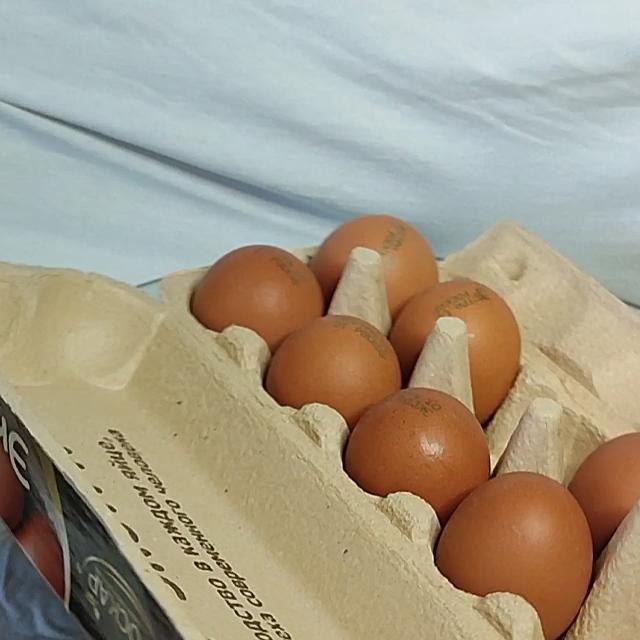egg: (0, 220, 640, 640)
